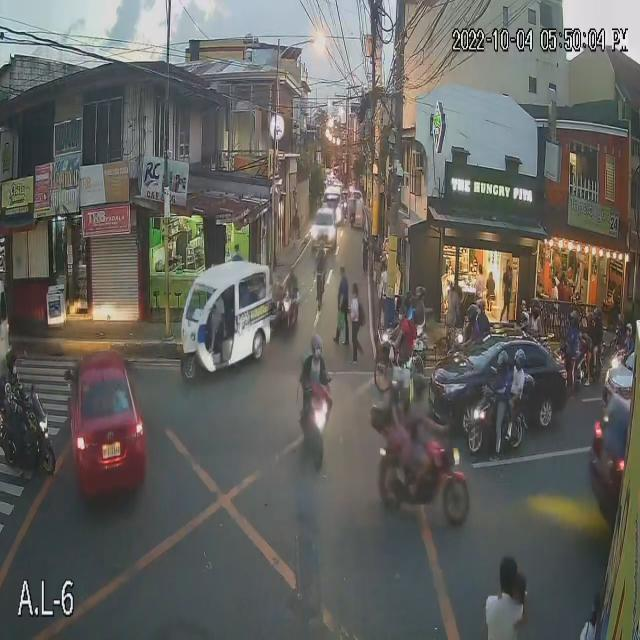helmet: (382, 370, 406, 403), (411, 361, 429, 403), (0, 346, 21, 378), (511, 351, 529, 381), (492, 347, 511, 372), (311, 333, 329, 358), (473, 295, 488, 316), (462, 303, 477, 322), (564, 310, 578, 327)
motorcycle: (385, 437, 471, 507), (0, 392, 60, 475), (292, 387, 335, 464), (472, 400, 529, 454), (555, 349, 593, 387)
rider: (478, 346, 508, 437), (378, 369, 408, 447), (406, 370, 432, 444), (1, 337, 25, 412), (304, 332, 327, 398), (509, 343, 530, 407), (564, 312, 581, 363), (474, 293, 490, 335), (464, 302, 480, 339)
